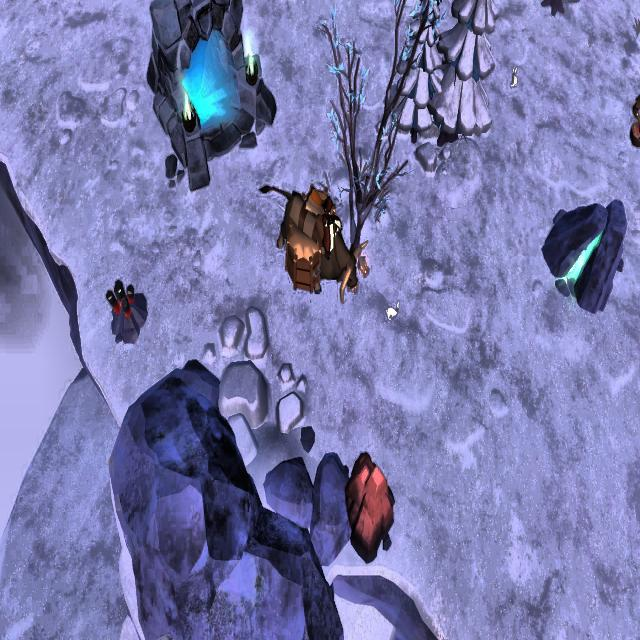ore_t5: (106, 280, 136, 320)
rock_t5: (346, 452, 394, 565)
